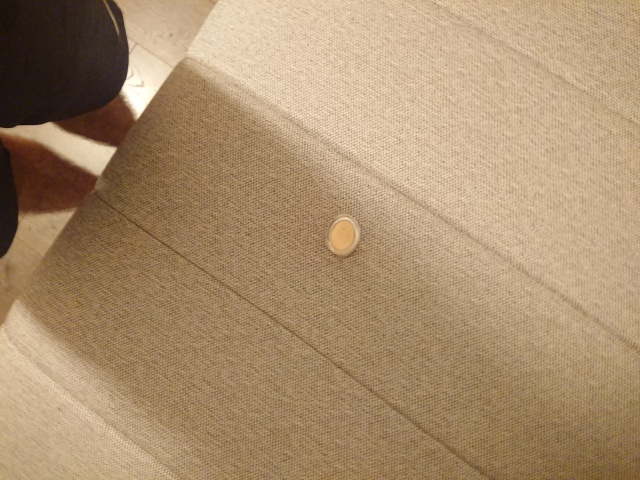Kotanyi Garlic Granules 70g: (324, 212, 362, 260)
